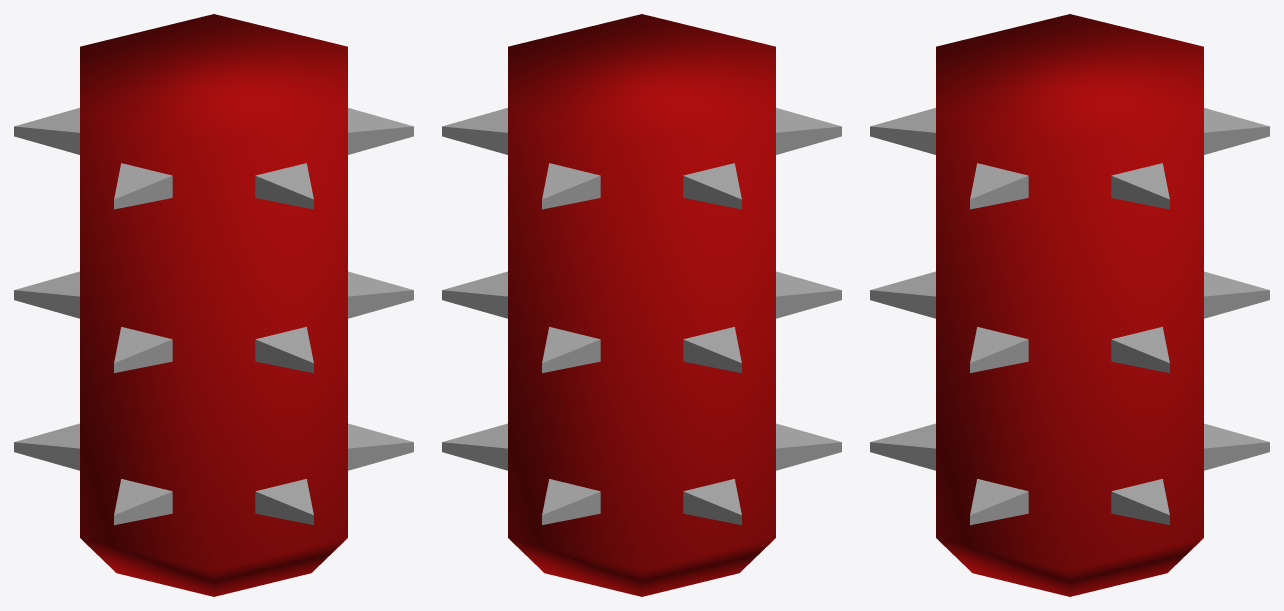
The model's file is posoh.fbx.
The picture shows the model from 3 angles, left to right: view 1: azimuth 30°, elevation 25°; view 2: azimuth 150°, elevation 25°; view 3: azimuth 270°, elevation 25°; orthographic projection.
Parts seen in each view (by area): view 1: posoh; view 2: posoh; view 3: posoh.
Boxes of the visible parts, x1=… form: posoh: x1=14, y1=14, x2=413, y2=596; posoh: x1=442, y1=14, x2=841, y2=596; posoh: x1=870, y1=14, x2=1269, y2=596.
Size of the model in its own units: 8.54 by 12.79 by 9.86.
